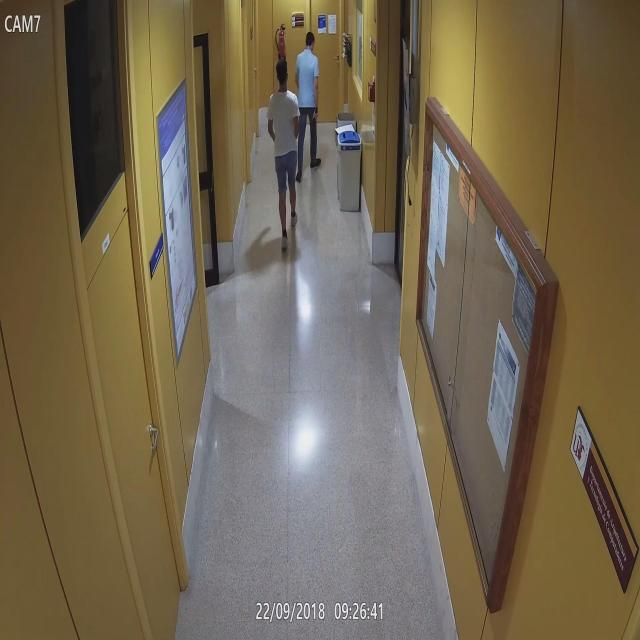pistol: (311, 104, 320, 136)
